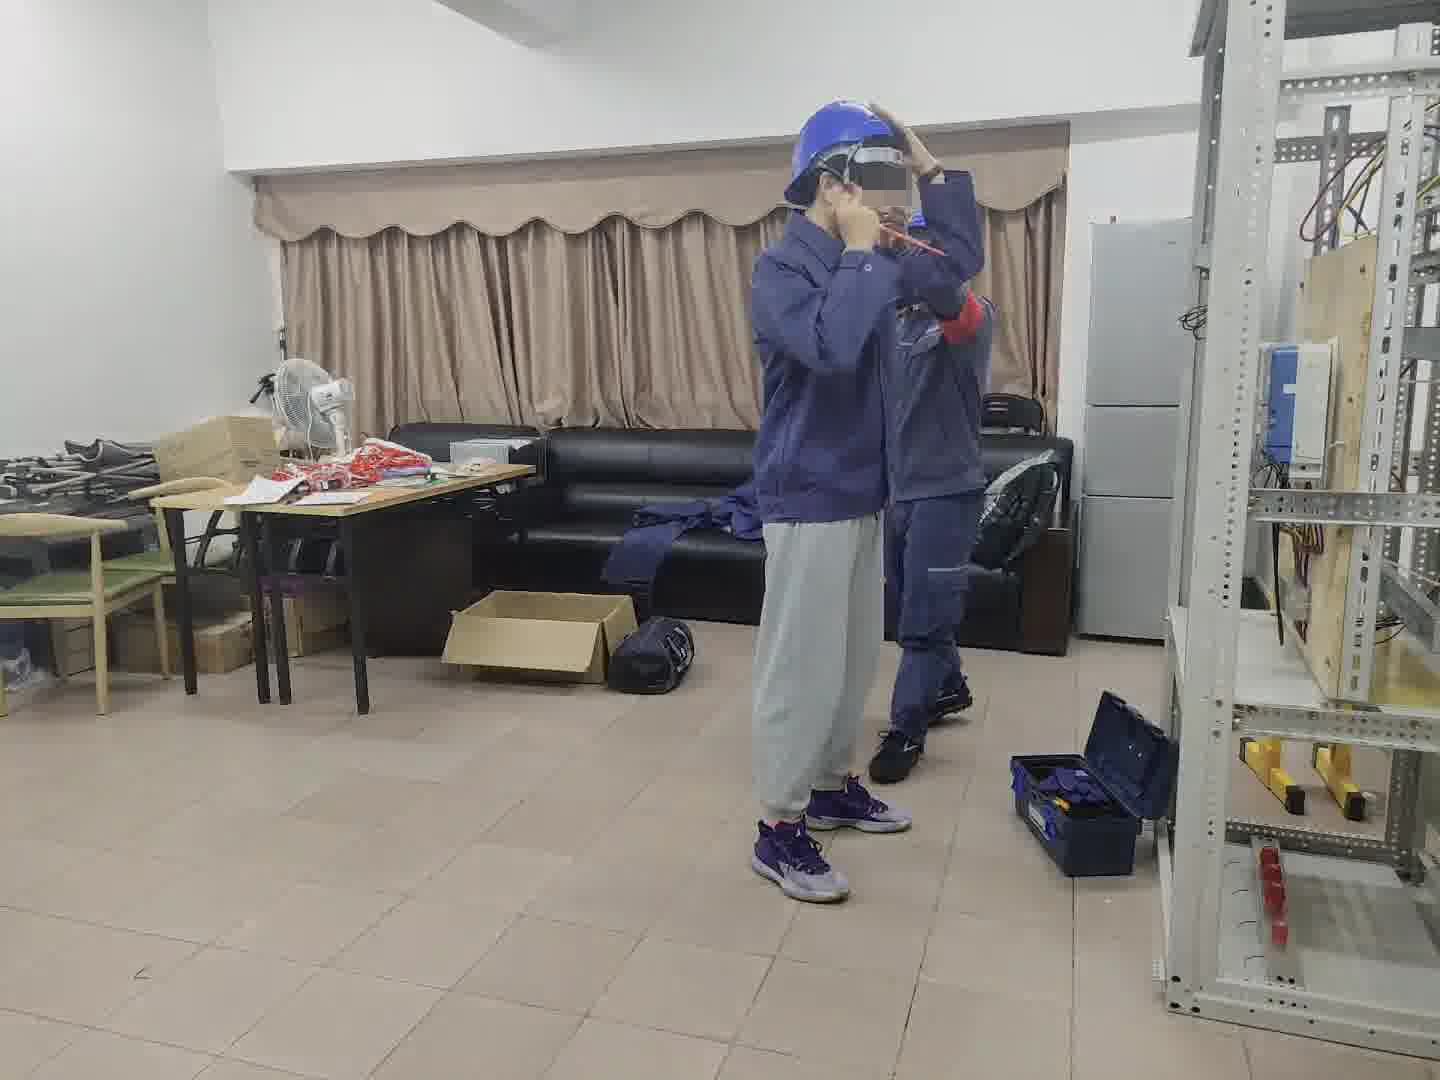badge: (939, 284, 989, 346)
downcloth: (746, 533, 887, 801)
downsuit: (889, 509, 983, 754)
fhalt: (788, 104, 916, 248)
hand: (872, 101, 936, 171), (830, 195, 886, 248)
noear: (810, 160, 849, 216)
person: (720, 95, 1011, 910)
upsuit: (740, 167, 986, 505)
